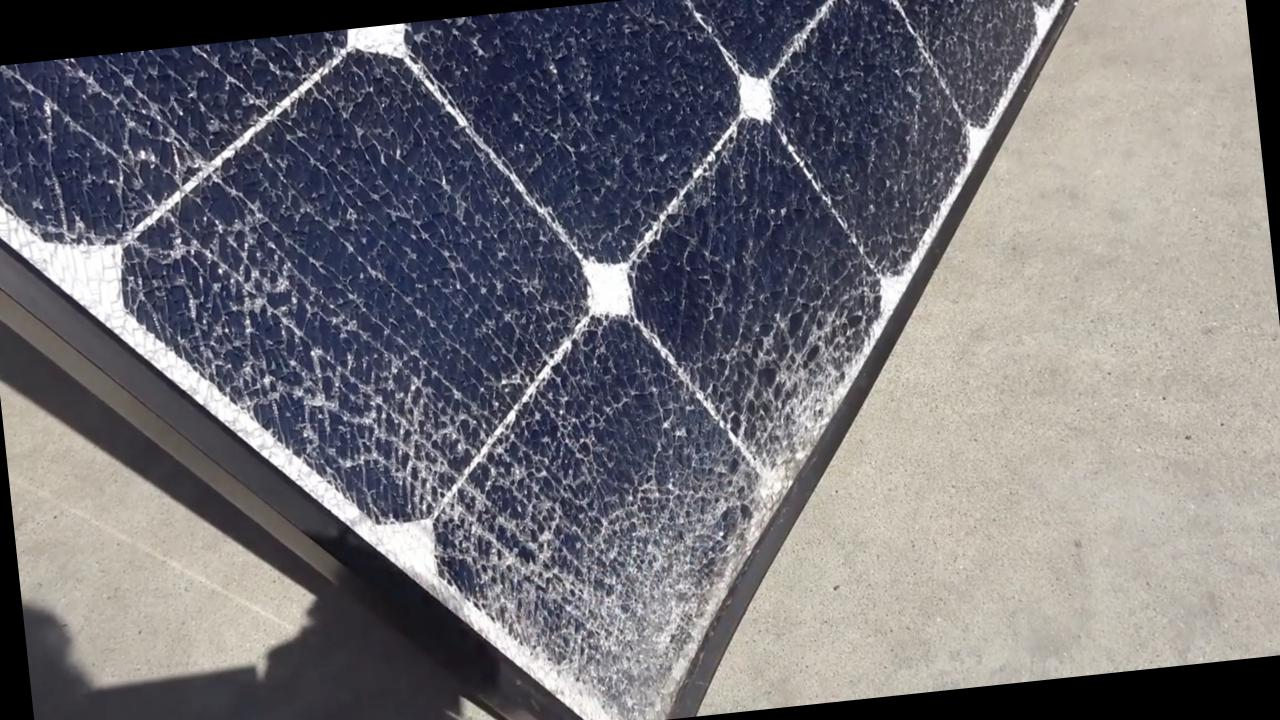Crack: (390, 284, 812, 702)
